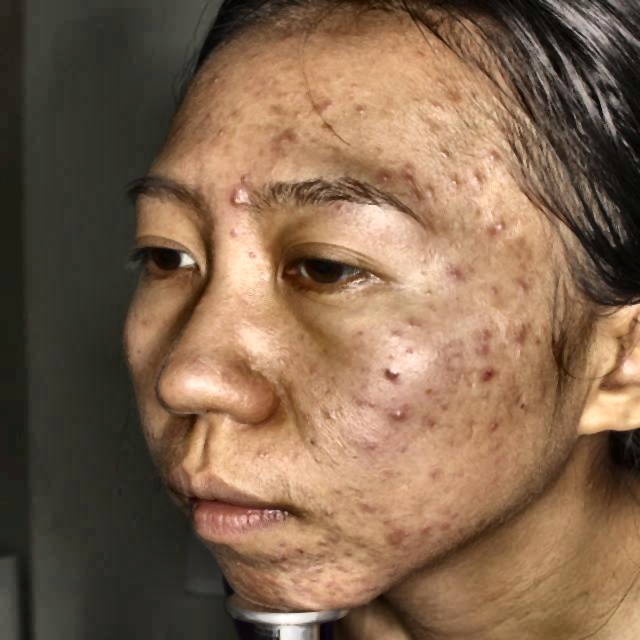papule: (388, 152, 421, 188), (222, 180, 259, 212), (376, 397, 407, 431), (339, 570, 376, 598), (303, 92, 336, 123), (434, 262, 470, 289), (429, 82, 464, 109), (398, 310, 429, 339), (254, 564, 281, 597), (469, 320, 503, 345), (276, 121, 303, 152), (465, 165, 495, 192), (472, 514, 503, 540), (503, 316, 531, 344), (383, 519, 409, 549), (409, 510, 435, 539), (304, 582, 334, 606), (473, 362, 502, 386), (481, 410, 508, 435), (219, 221, 245, 246), (413, 181, 437, 208), (435, 506, 456, 536), (303, 537, 330, 560), (218, 123, 243, 147), (358, 500, 383, 524), (465, 337, 491, 360), (383, 559, 409, 577), (494, 215, 517, 235), (418, 387, 445, 401), (501, 386, 519, 406), (426, 414, 445, 432), (516, 279, 534, 295)
